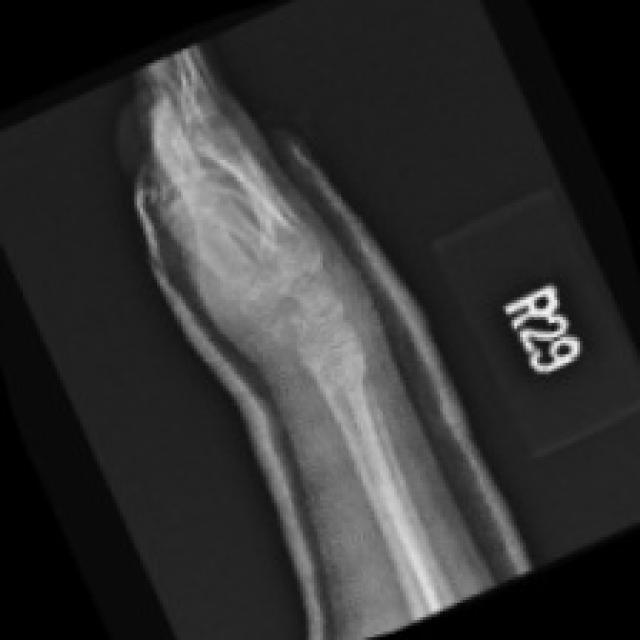fracture: (248, 252, 365, 404)
